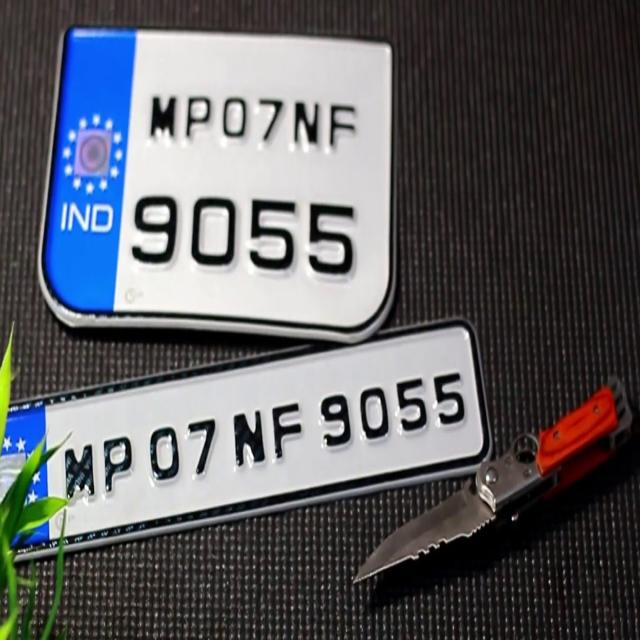plate: (0, 318, 490, 555), (38, 27, 396, 340)
